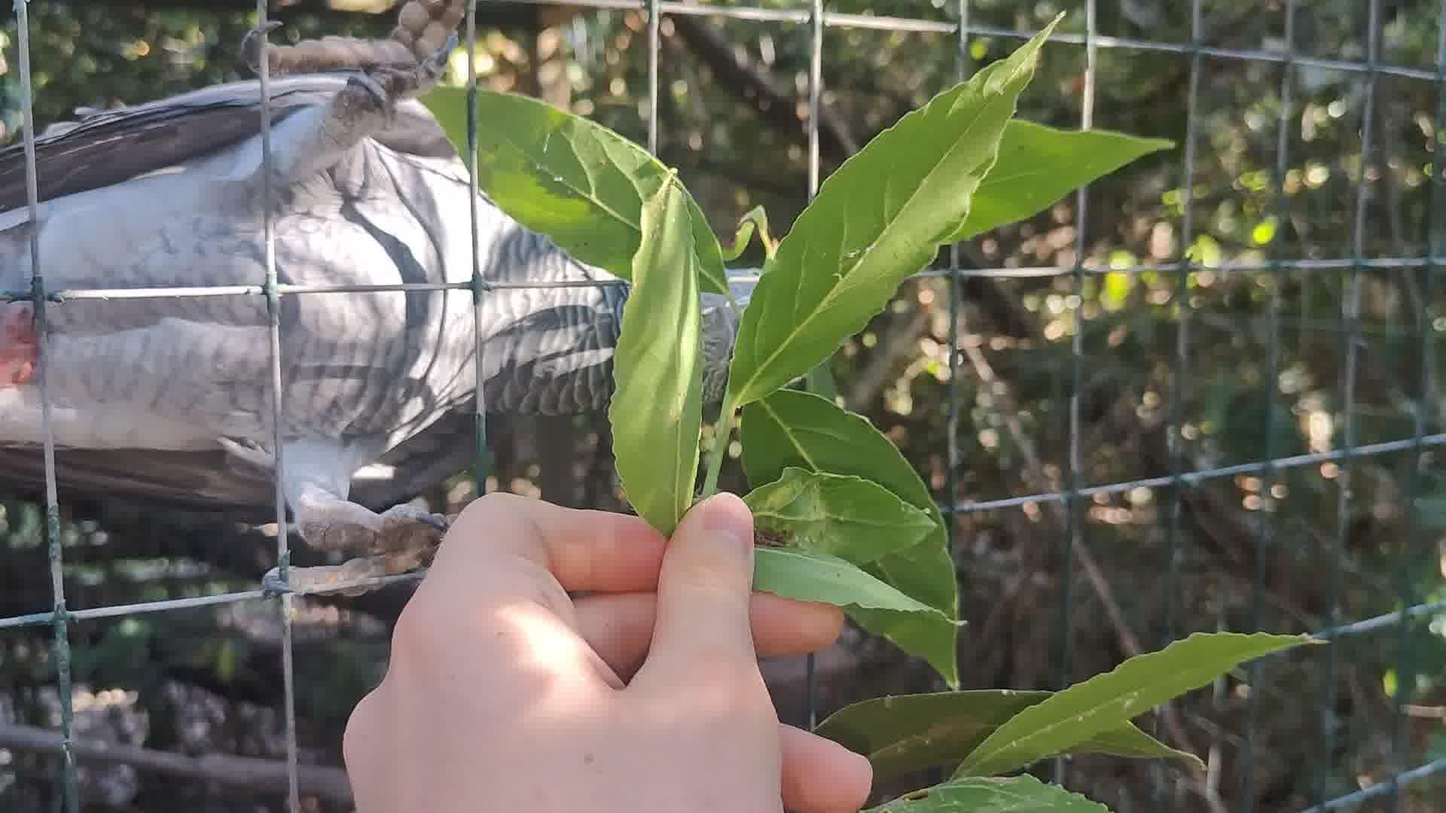apple: (0, 0, 761, 597)
